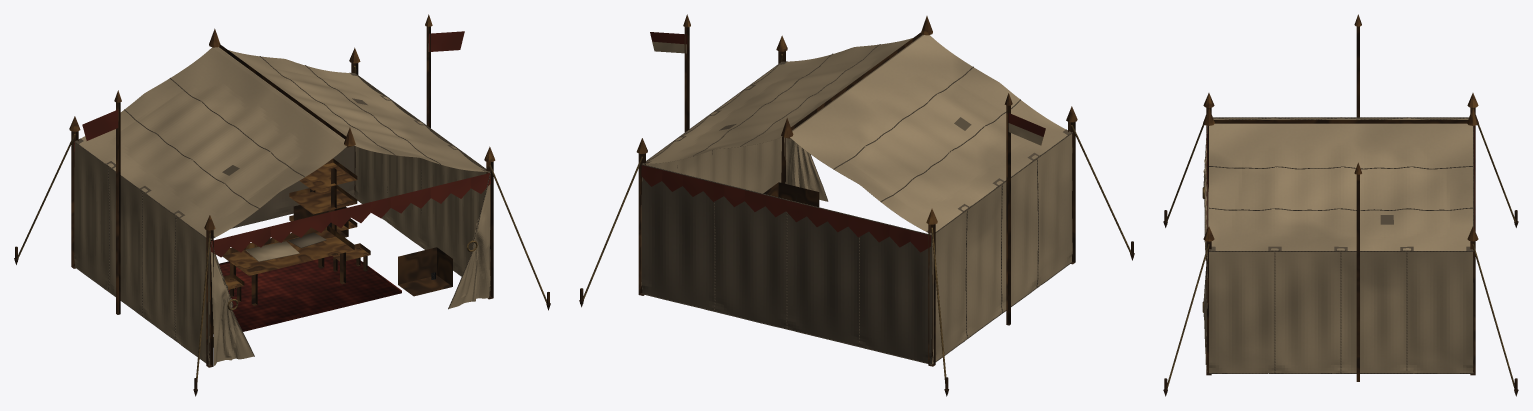
File: medieval_command_pavilion_3d_runtime.glb
3 views of the same model, side by side, from view 1: azimuth 30°, elevation 25°; view 2: azimuth 150°, elevation 25°; view 3: azimuth 270°, elevation 25° (orthographic). The views are drawn at different scales.
Parts seen in each view (by area): view 1: COMMAND_PAVILION_CLOTH_PAV_ROOF_-1, COMMAND_PAVILION_CLOTH_PAV_SIDE_-1, COMMAND_PAVILION_CLOTH_PAV_ROOF_1, COMMAND_PAVILION_CLOTH_PAV_SIDE_1, COMMAND_PAVILION_WOOD_DARK_BATCH, COMMAND_PAVILION_RUG_BATCH, COMMAND_PAVILION_WOOD_MID_BATCH, COMMAND_PAVILION_RED_CLOTH_BATCH, COMMAND_PAVILION_CANVAS_DARK_BATCH, COMMAND_PAVILION_CLOTH_PAV_FRONT_WING_-1, COMMAND_PAVILION_CLOTH_PAV_FRONT_WING_1, COMMAND_PAVILION_CLOTH_PAV_REAR (+2 smaller); view 2: COMMAND_PAVILION_CLOTH_PAV_REAR, COMMAND_PAVILION_CLOTH_PAV_ROOF_-1, COMMAND_PAVILION_CLOTH_PAV_SIDE_-1, COMMAND_PAVILION_CLOTH_PAV_ROOF_1, COMMAND_PAVILION_WOOD_DARK_BATCH, COMMAND_PAVILION_RED_CLOTH_BATCH, COMMAND_PAVILION_CLOTH_PAV_SIDE_1, COMMAND_PAVILION_CANVAS_DARK_BATCH, COMMAND_PAVILION_CLOTH_PAV_FRONT_WING_1, COMMAND_PAVILION_ROPE_BATCH, COMMAND_PAVILION_WOOD_MID_BATCH, COMMAND_PAVILION_CANVAS_BATCH; view 3: COMMAND_PAVILION_CLOTH_PAV_ROOF_1, COMMAND_PAVILION_CLOTH_PAV_SIDE_1, COMMAND_PAVILION_WOOD_DARK_BATCH, COMMAND_PAVILION_CANVAS_DARK_BATCH, COMMAND_PAVILION_ROPE_BATCH, COMMAND_PAVILION_WOOD_MID_BATCH, COMMAND_PAVILION_CLOTH_PAV_FRONT_WING_-1.
Boxes of the visible parts, x1,y1,x2,y2 form: COMMAND_PAVILION_CLOTH_PAV_ROOF_-1: (79,47,346,240); COMMAND_PAVILION_CLOTH_PAV_SIDE_-1: (74,143,209,364); COMMAND_PAVILION_CLOTH_PAV_ROOF_1: (218,47,489,172); COMMAND_PAVILION_CLOTH_PAV_SIDE_1: (355,77,490,296); COMMAND_PAVILION_WOOD_DARK_BATCH: (14,26,550,396); COMMAND_PAVILION_RUG_BATCH: (219,256,401,331); COMMAND_PAVILION_WOOD_MID_BATCH: (69,14,495,289); COMMAND_PAVILION_RED_CLOTH_BATCH: (74,31,490,257); COMMAND_PAVILION_CANVAS_DARK_BATCH: (74,56,490,365); COMMAND_PAVILION_CLOTH_PAV_FRONT_WING_-1: (210,247,253,365); COMMAND_PAVILION_CLOTH_PAV_FRONT_WING_1: (449,184,490,308); COMMAND_PAVILION_CLOTH_PAV_REAR: (232,145,354,228); COMMAND_PAVILION_CLOTH_PAV_REAR: (642,167,931,363); COMMAND_PAVILION_CLOTH_PAV_ROOF_-1: (790,35,1067,234); COMMAND_PAVILION_CLOTH_PAV_SIDE_-1: (932,134,1072,363); COMMAND_PAVILION_CLOTH_PAV_ROOF_1: (643,35,923,164); COMMAND_PAVILION_WOOD_DARK_BATCH: (579,27,1134,396); COMMAND_PAVILION_RED_CLOTH_BATCH: (641,32,1072,252); COMMAND_PAVILION_CLOTH_PAV_SIDE_1: (641,66,781,289); COMMAND_PAVILION_CANVAS_DARK_BATCH: (641,44,1072,364); COMMAND_PAVILION_CLOTH_PAV_FRONT_WING_1: (784,137,827,201); COMMAND_PAVILION_ROPE_BATCH: (583,54,1131,383); COMMAND_PAVILION_WOOD_MID_BATCH: (636,14,1077,224); COMMAND_PAVILION_CANVAS_BATCH: (652,41,1043,145); COMMAND_PAVILION_CLOTH_PAV_ROOF_1: (1209,123,1472,250); COMMAND_PAVILION_CLOTH_PAV_SIDE_1: (1209,252,1472,373); COMMAND_PAVILION_WOOD_DARK_BATCH: (1163,26,1518,396); COMMAND_PAVILION_CANVAS_DARK_BATCH: (1203,117,1473,373); COMMAND_PAVILION_ROPE_BATCH: (1166,124,1515,388); COMMAND_PAVILION_WOOD_MID_BATCH: (1203,14,1478,241); COMMAND_PAVILION_CLOTH_PAV_FRONT_WING_-1: (1203,126,1208,257).
Size of the model in its own units: 9.98 by 5.73 by 8.21.
8 materials, 8 textured.
